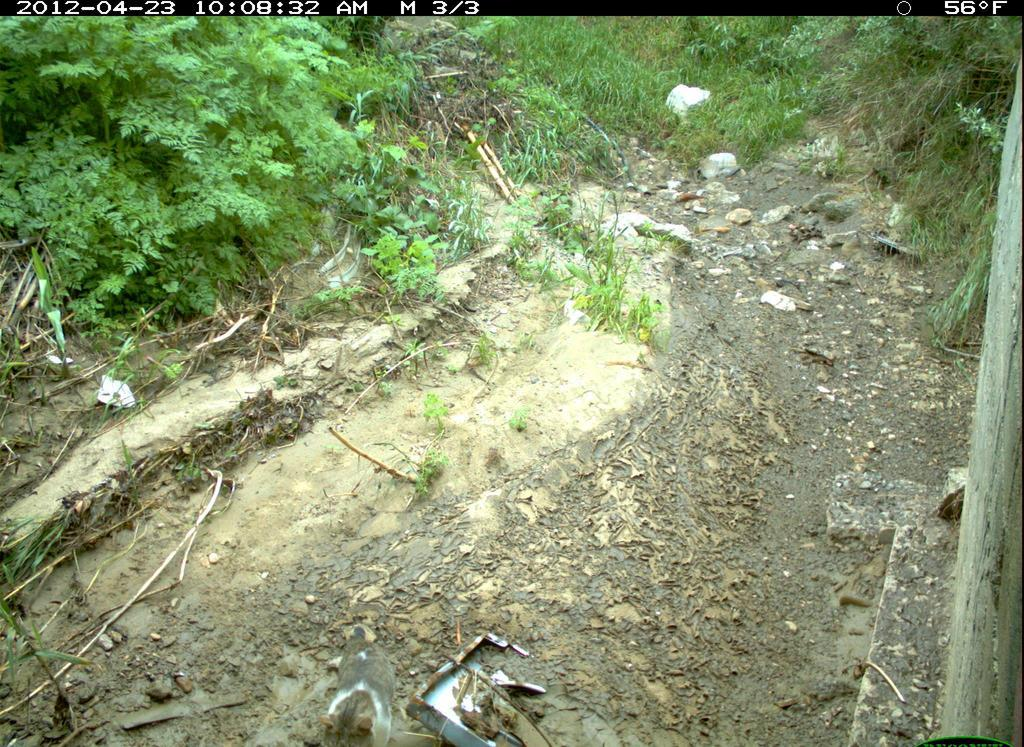cat: (319, 632, 443, 743)
